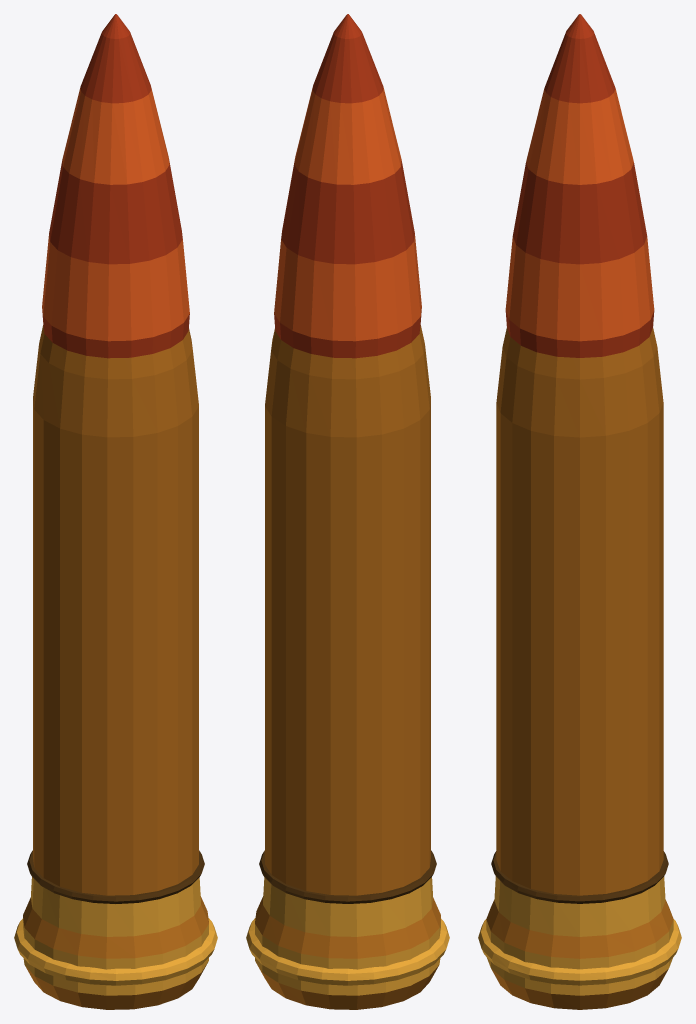
Rendered from ITEM0009_Bullet.obj.
3 views of the same model, side by side, from view 1: azimuth 30°, elevation 25°; view 2: azimuth 150°, elevation 25°; view 3: azimuth 270°, elevation 25° (orthographic).
Parts seen in each view (by area): view 1: BrassCase, CopperProjectile, CaseRim, CaseGroove; view 2: BrassCase, CopperProjectile, CaseRim, CaseGroove; view 3: BrassCase, CopperProjectile, CaseRim, CaseGroove.
Boxes of the visible parts, x1,y1,x2,y2 form: BrassCase: (23,325,208,1009); CopperProjectile: (42,14,189,358); CaseRim: (14,918,217,985); CaseGroove: (27,850,204,903); BrassCase: (255,325,440,1009); CopperProjectile: (274,14,421,358); CaseRim: (246,918,449,985); CaseGroove: (259,850,436,903); BrassCase: (486,328,673,1009); CopperProjectile: (505,14,654,357); CaseRim: (478,919,681,985); CaseGroove: (491,851,668,903).
Size of the model in its own units: 0.01 by 0.0523 by 0.01.
